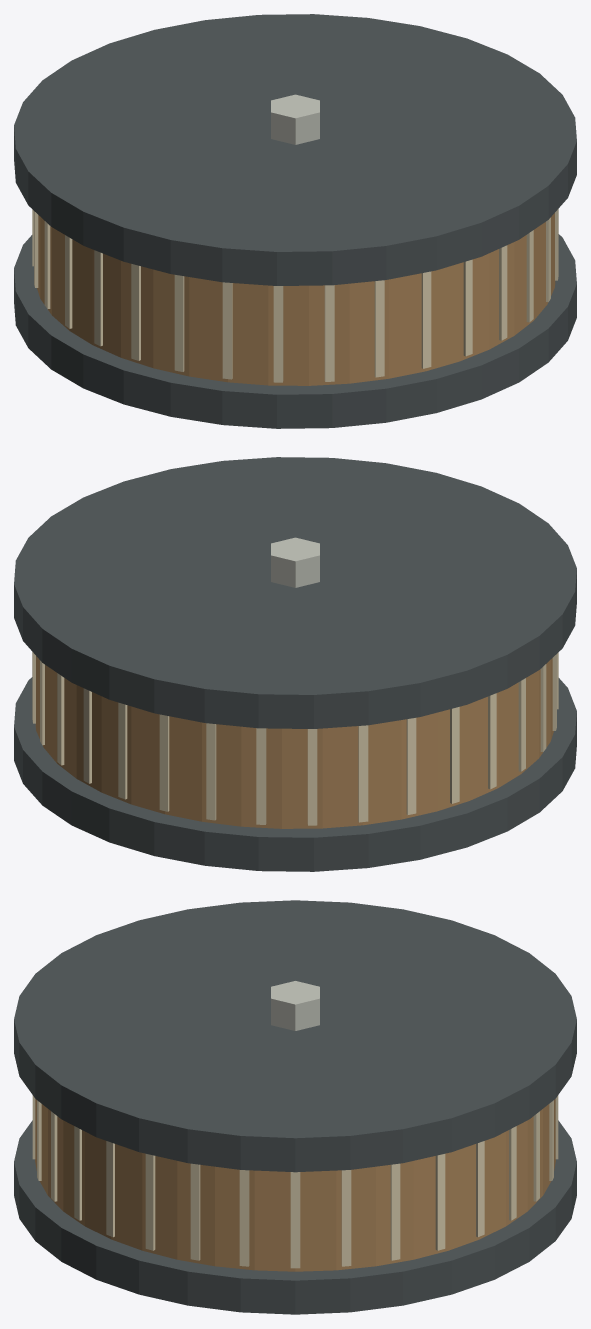
The model's file is ENG_AirCleaner.glb.
3 renders of one model, top to bottom at view 1: azimuth 30°, elevation 25°; view 2: azimuth 150°, elevation 25°; view 3: azimuth 270°, elevation 25°, orthographic.
Parts seen in each view (by area): view 1: PressedLids, FilterPaper, Pleats, WingNut; view 2: PressedLids, FilterPaper, Pleats, WingNut; view 3: PressedLids, FilterPaper, Pleats, WingNut.
Boxes of the visible parts, left/top/right/bottom form: PressedLids: left=14, top=14, right=576, bottom=428; FilterPaper: left=37, top=213, right=555, bottom=385; Pleats: left=32, top=209, right=558, bottom=382; WingNut: left=271, top=94, right=319, bottom=144; PressedLids: left=14, top=457, right=576, bottom=871; FilterPaper: left=35, top=656, right=553, bottom=828; Pleats: left=32, top=652, right=558, bottom=825; WingNut: left=271, top=537, right=319, bottom=587; PressedLids: left=14, top=900, right=576, bottom=1314; FilterPaper: left=35, top=1099, right=555, bottom=1271; Pleats: left=32, top=1095, right=558, bottom=1268; WingNut: left=271, top=981, right=319, bottom=1030.
Size of the model in its own units: 0.24 by 0.0955 by 0.24.
